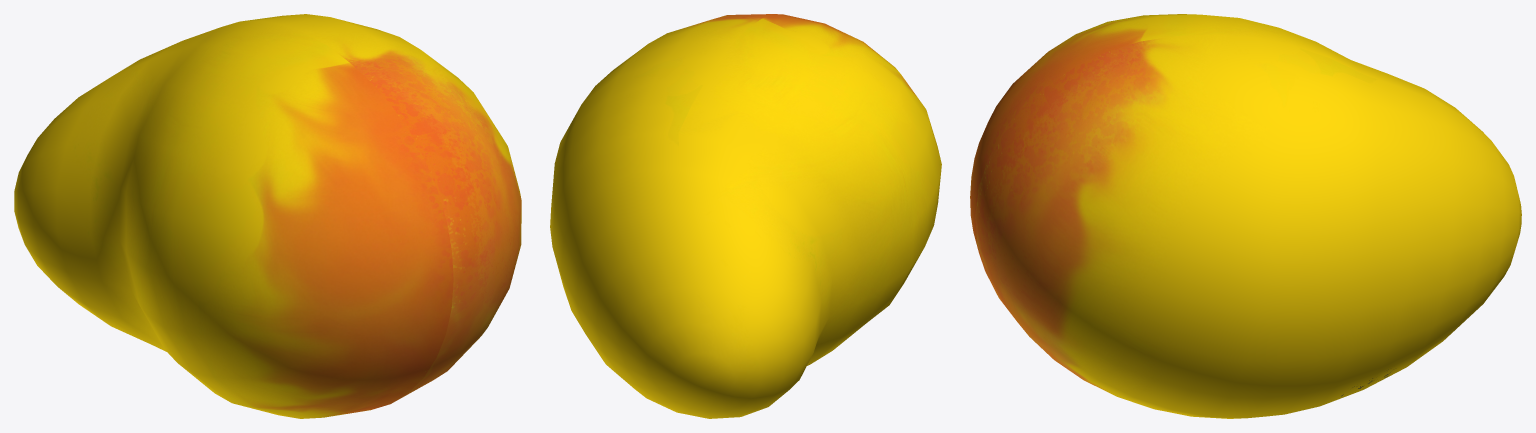
Rendered from manguito alone.fbx.
3 views of the same model, side by side, from view 1: azimuth 30°, elevation 25°; view 2: azimuth 150°, elevation 25°; view 3: azimuth 270°, elevation 25° (orthographic). The views are drawn at different scales.
Parts seen in each view (by area): view 1: mango:pSphere1; view 2: mango:pSphere1; view 3: mango:pSphere1.
Boxes of the visible parts, bbox=[...] form: mango:pSphere1: bbox=[14, 14, 521, 418]; mango:pSphere1: bbox=[550, 14, 941, 418]; mango:pSphere1: bbox=[970, 14, 1521, 418].
Size of the model in its own units: 29.58 by 28.84 by 39.25.
1 material, 1 textured.
